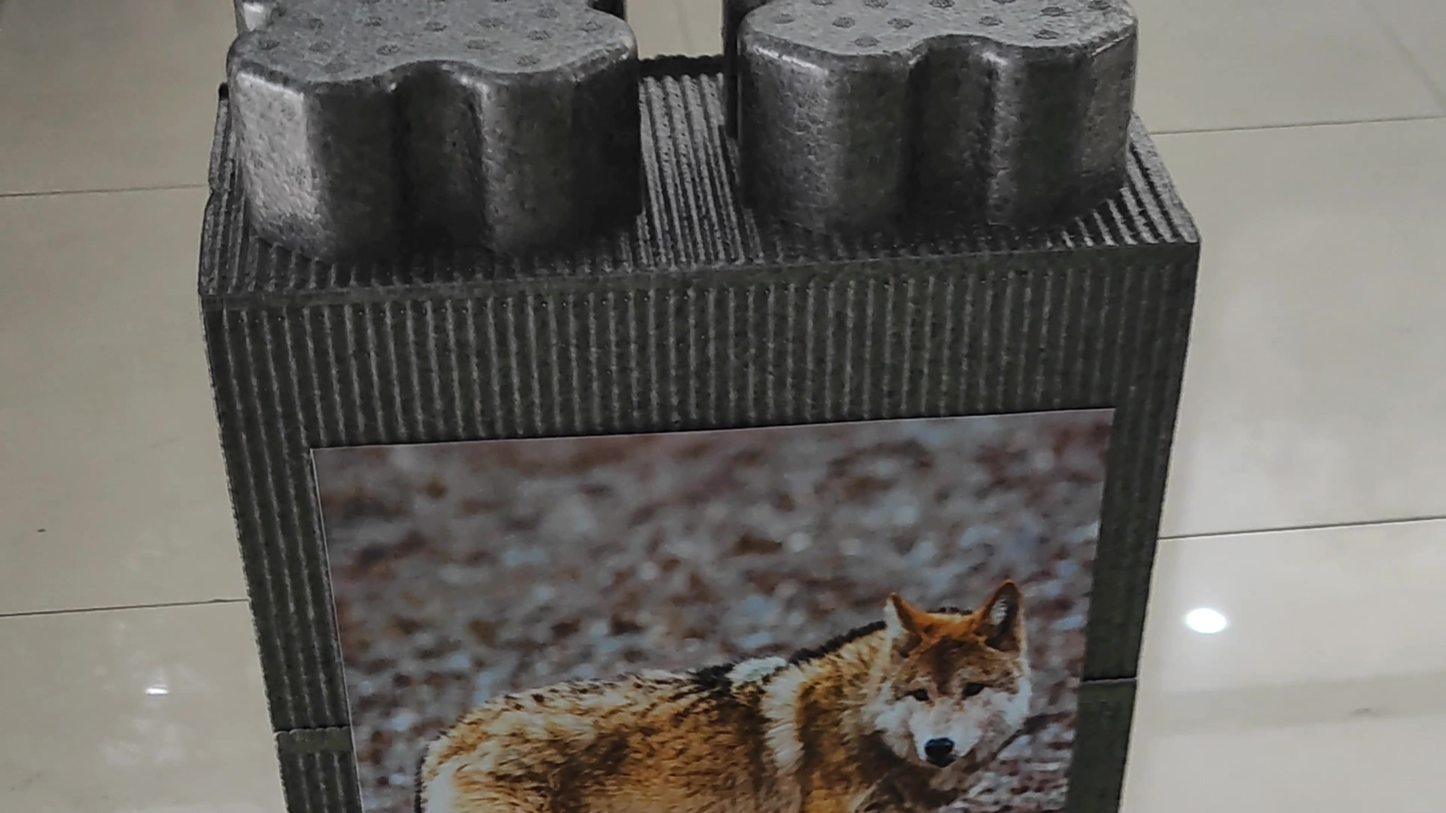wolf: (384, 537, 1053, 813)
